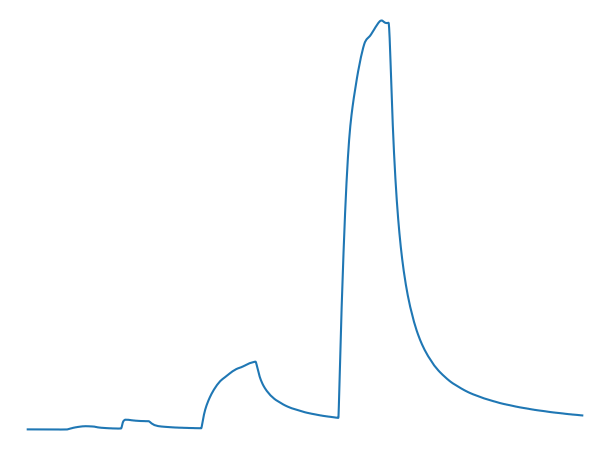decrease: (245, 356, 264, 372), (379, 14, 394, 33), (143, 418, 155, 424)
increase: (327, 405, 344, 423), (194, 421, 207, 433), (114, 423, 129, 433)
